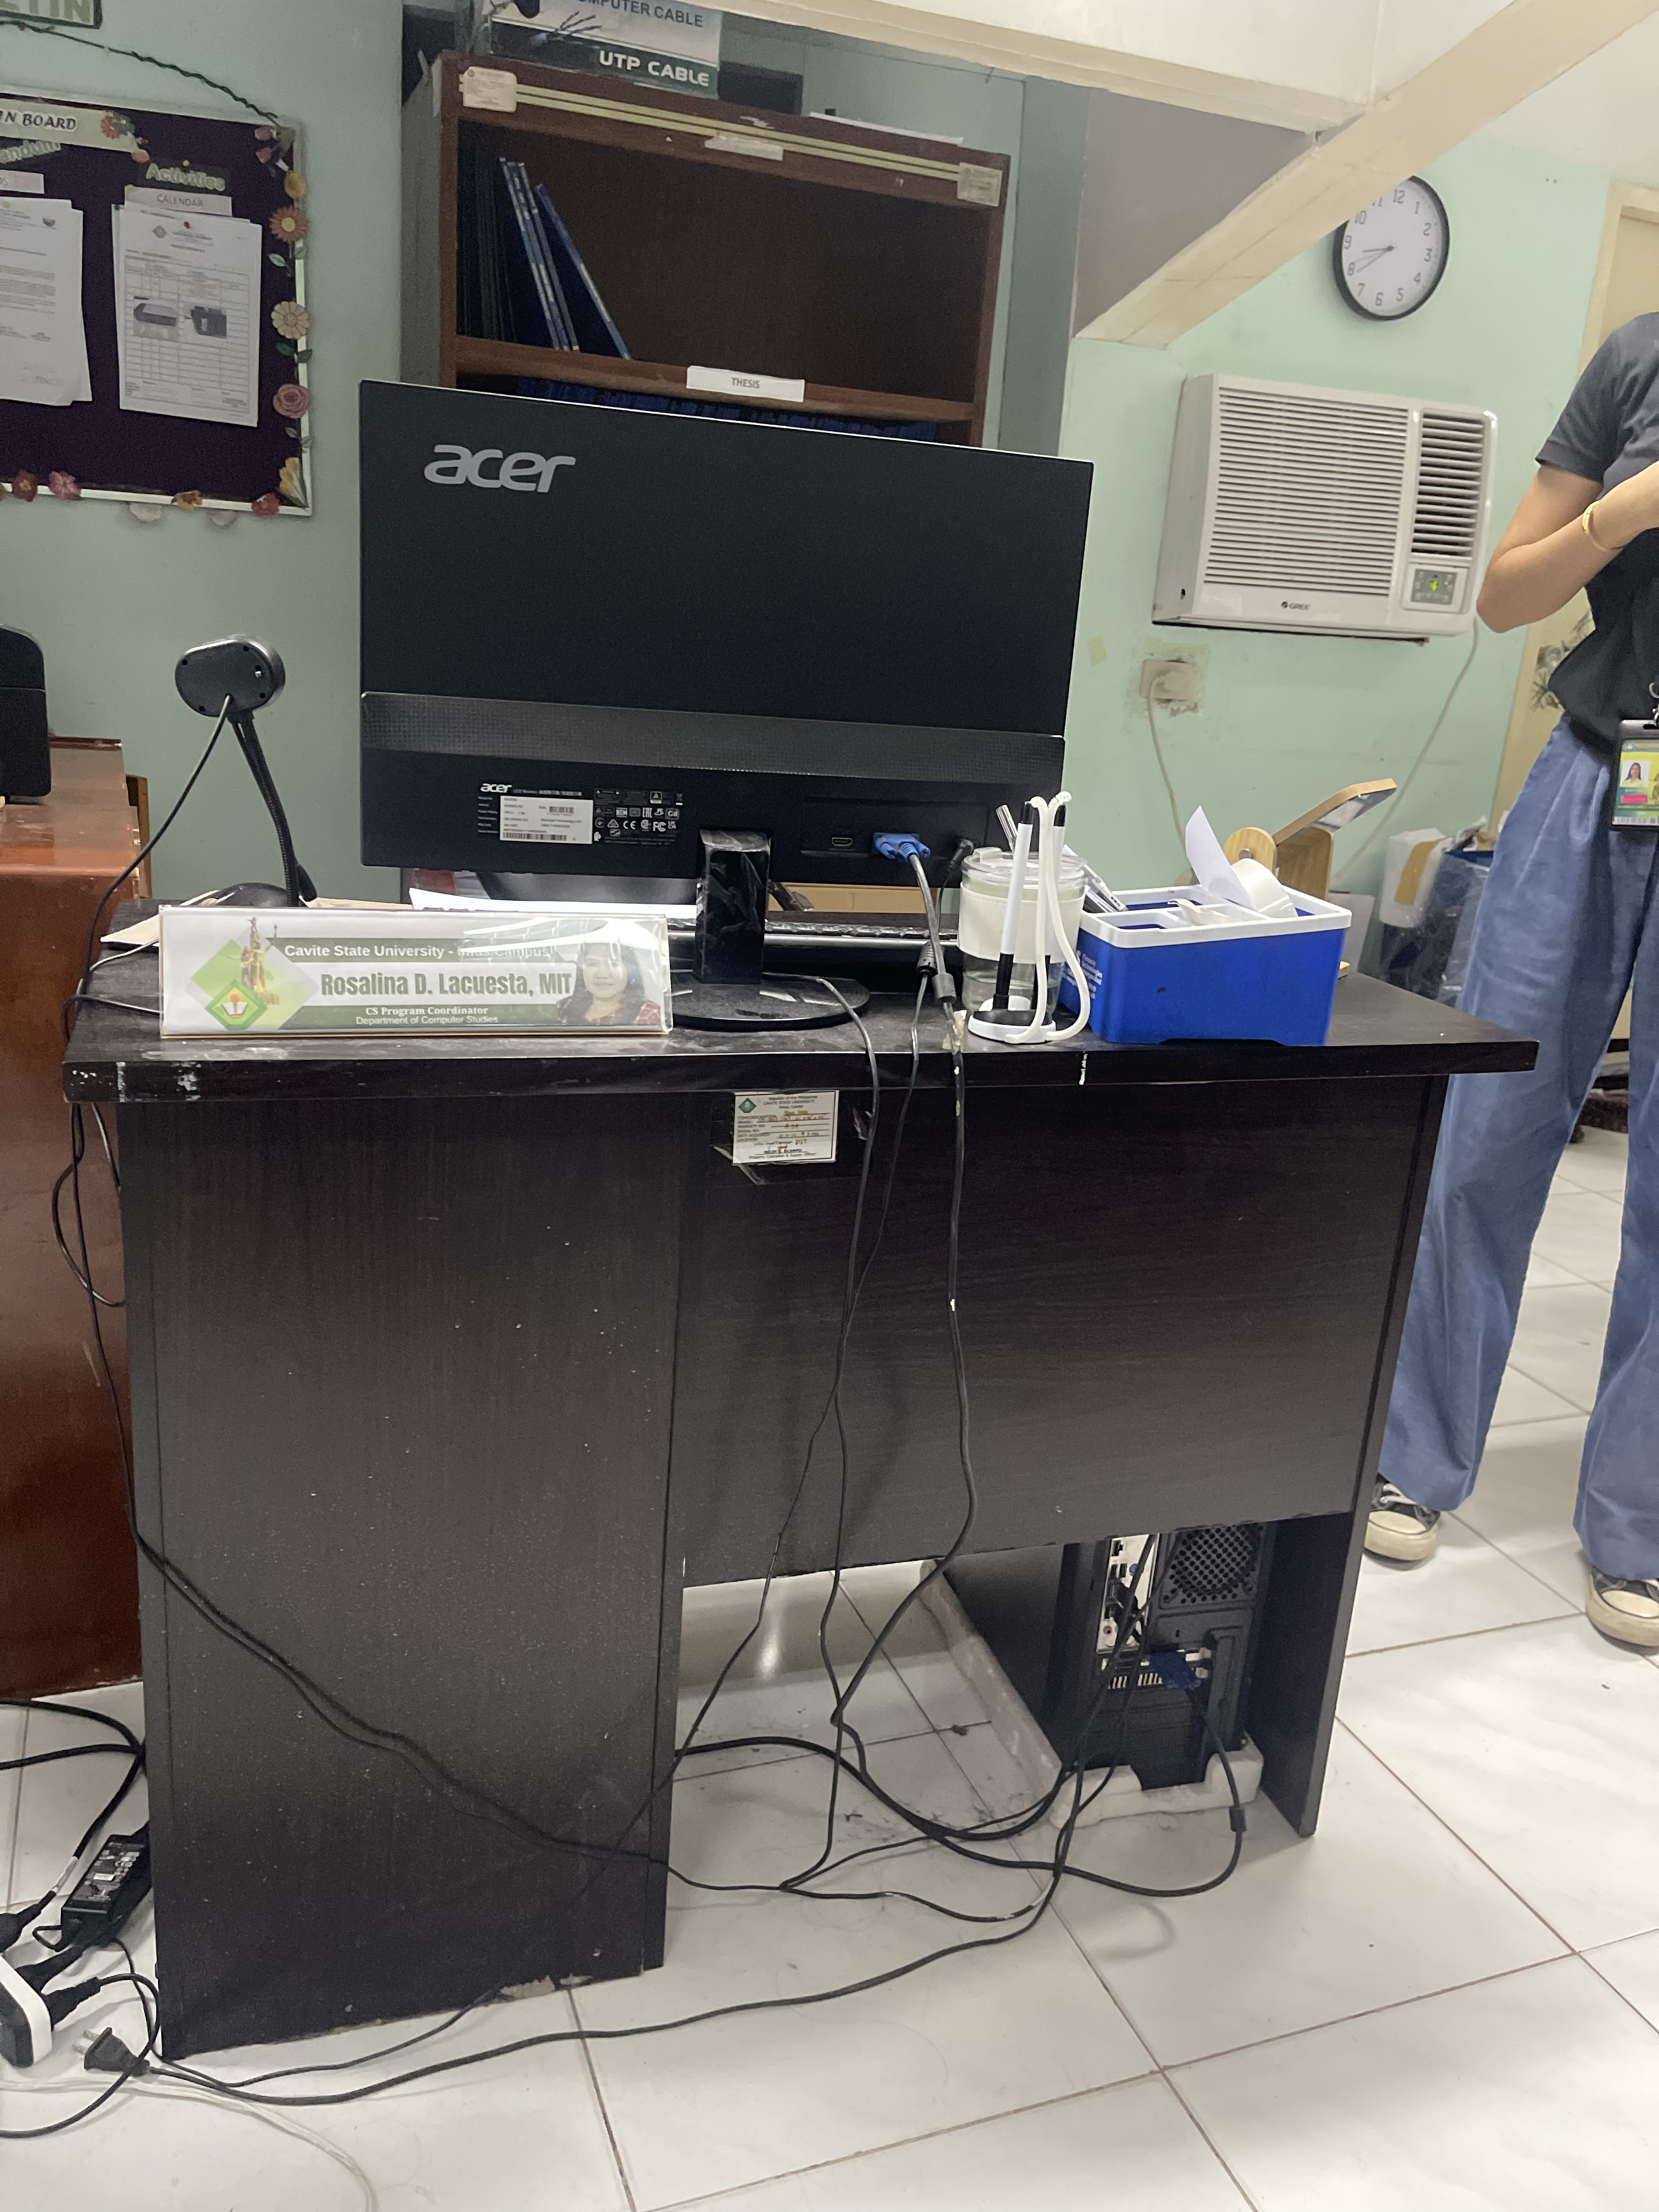table1: (66, 887, 1551, 2095)
